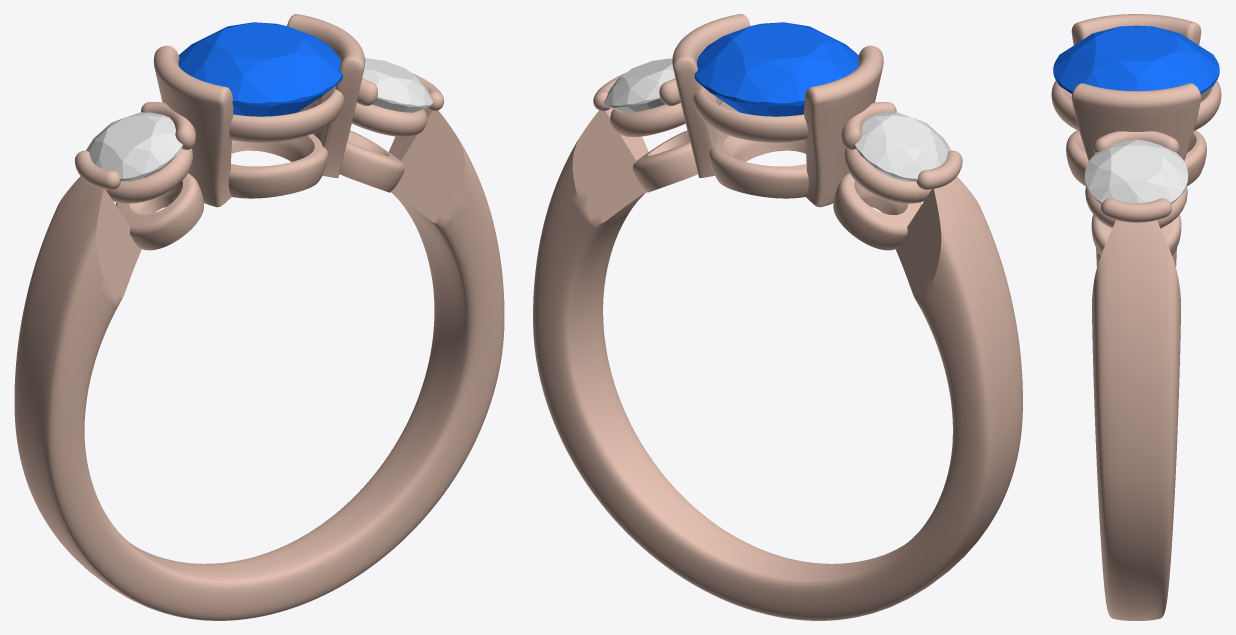
Rendered from bluesapphire-round-rosegold-halfmoonbezel-straighttaperedband-2stone.glb.
3 views of the same model, side by side, from view 1: azimuth 30°, elevation 25°; view 2: azimuth 150°, elevation 25°; view 3: azimuth 270°, elevation 25° (orthographic). The views are drawn at different scales.
Parts seen in each view (by area): view 1: metal, stone, side, side.001; view 2: metal, stone, side, side.001; view 3: metal, stone, side.001.
Part boxes in pixels (<box>): metal: <box>14,14,504,620</box>; stone: <box>178,22,342,116</box>; side: <box>86,112,182,181</box>; side.001: <box>362,58,433,112</box>; metal: <box>533,14,1022,620</box>; stone: <box>694,22,858,116</box>; side: <box>854,112,951,181</box>; side.001: <box>603,58,675,112</box>; metal: <box>1051,14,1221,620</box>; stone: <box>1053,25,1219,94</box>; side.001: <box>1084,139,1188,203</box>.
Size of the model in its own units: 20.1 by 23.61 by 6.58.
